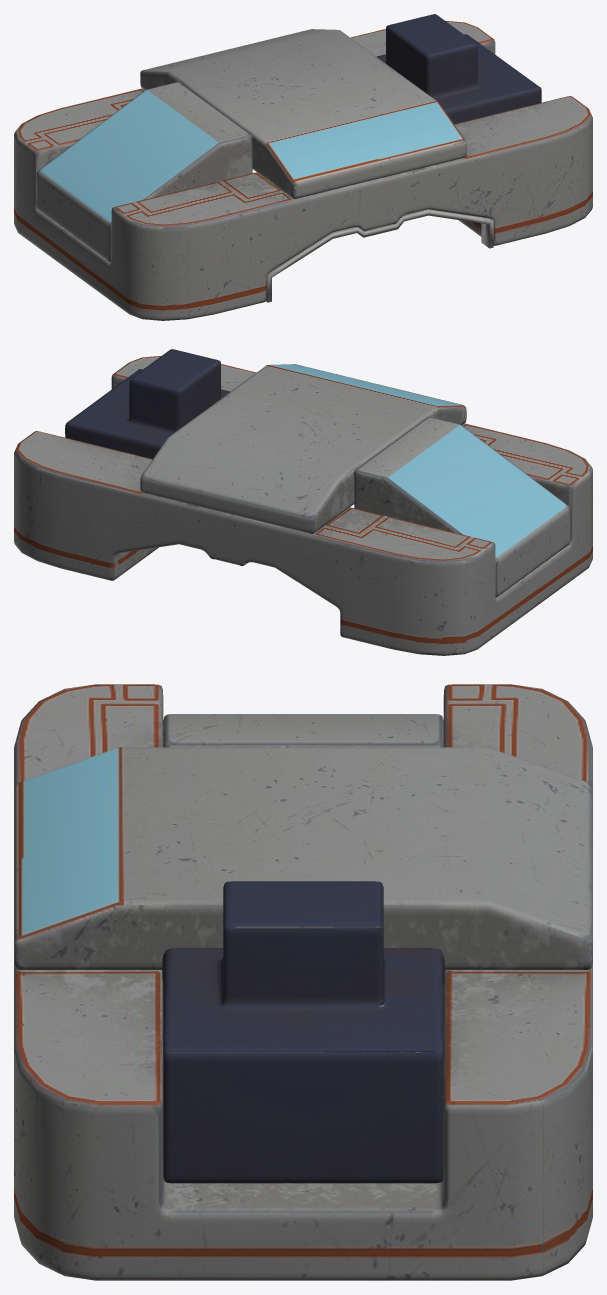
File: Scifi_Station.fbx
3 renders of one model, top to bottom at view 1: azimuth 30°, elevation 25°; view 2: azimuth 150°, elevation 25°; view 3: azimuth 270°, elevation 25°, orthographic. The views are drawn at different scales.
Visible parts, largest first — view 1: Station; view 2: Station; view 3: Station.
Part boxes in pixels (left/top/right/bottom): Station: left=14, top=14, right=592, bottom=320; Station: left=14, top=349, right=592, bottom=655; Station: left=14, top=684, right=592, bottom=1280.
Size of the model in its own units: 473 by 150 by 274.
Materials: 1 (1 with a texture image).
